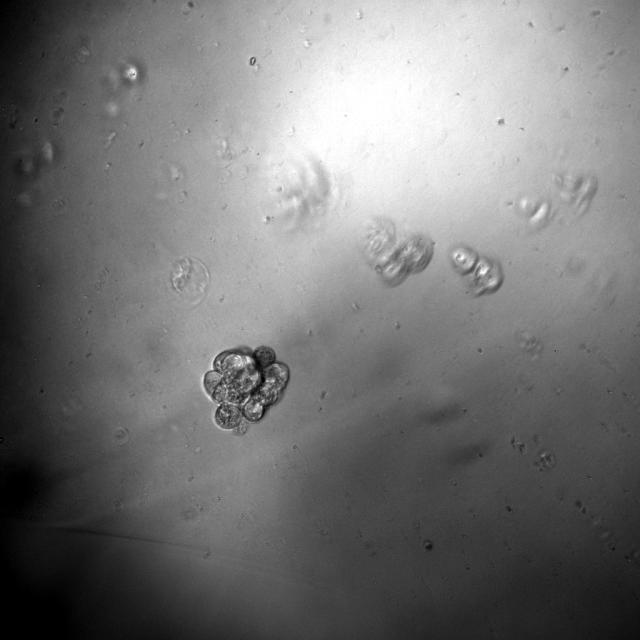organoid: (202, 345, 289, 434), (362, 217, 433, 286), (449, 245, 502, 294), (166, 257, 210, 308)
